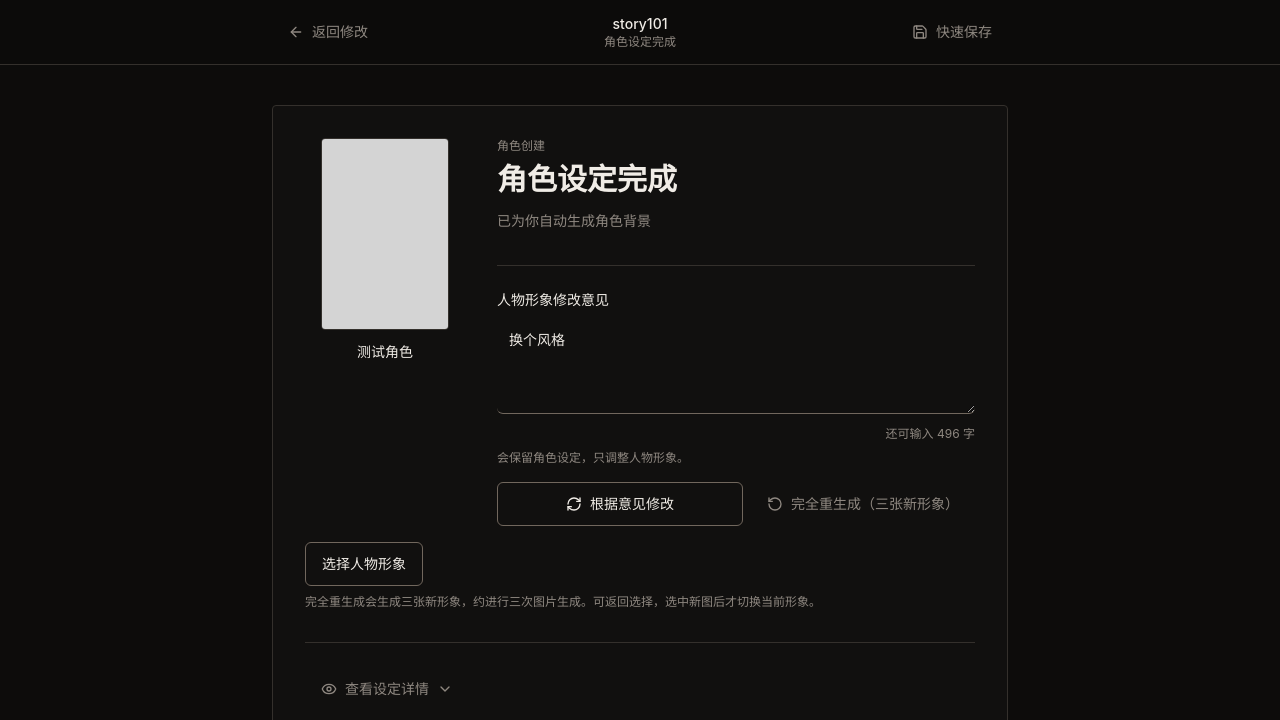
Scenario: CompletionScreen - Loading Feedback › 根据意见修改按钮点击后进入加载状态
What coordinates should you click on to do the following:
click the button "根据意见修改"
I would click on:
 (620, 504)
Its box is [497, 482, 743, 526].
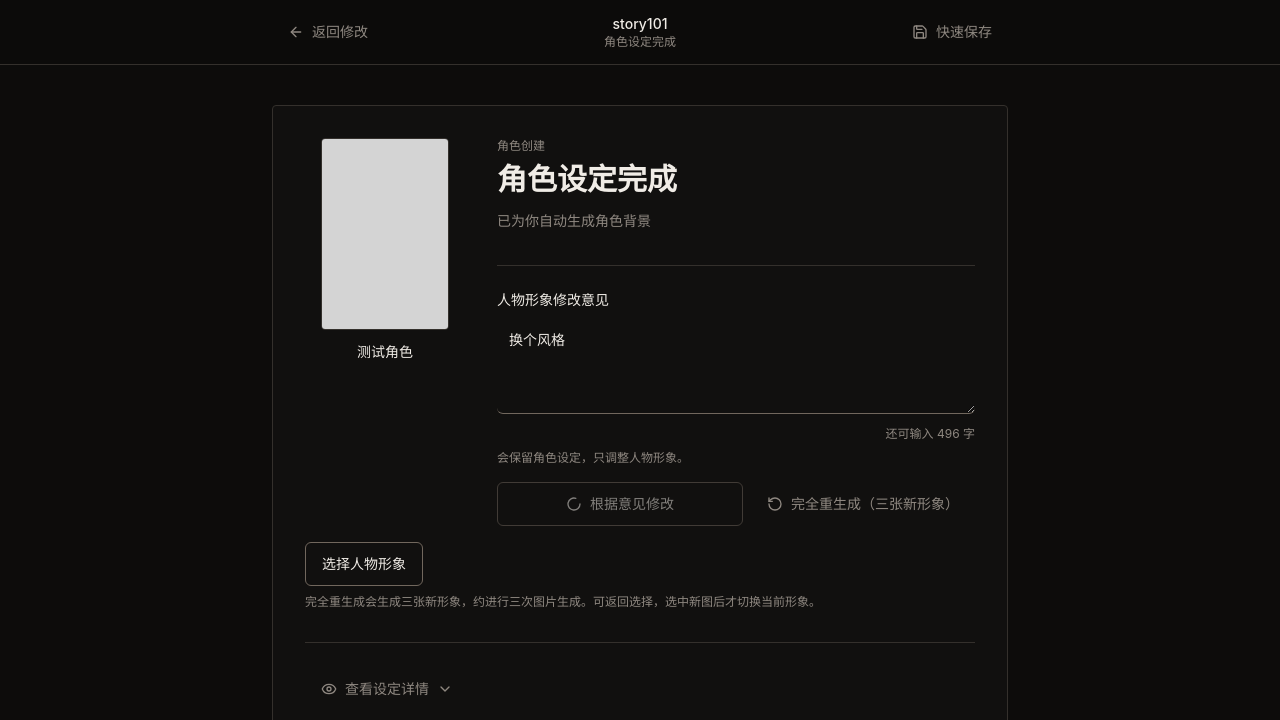
Result: the button "根据意见修改" is disabled at [497, 482, 743, 526]
